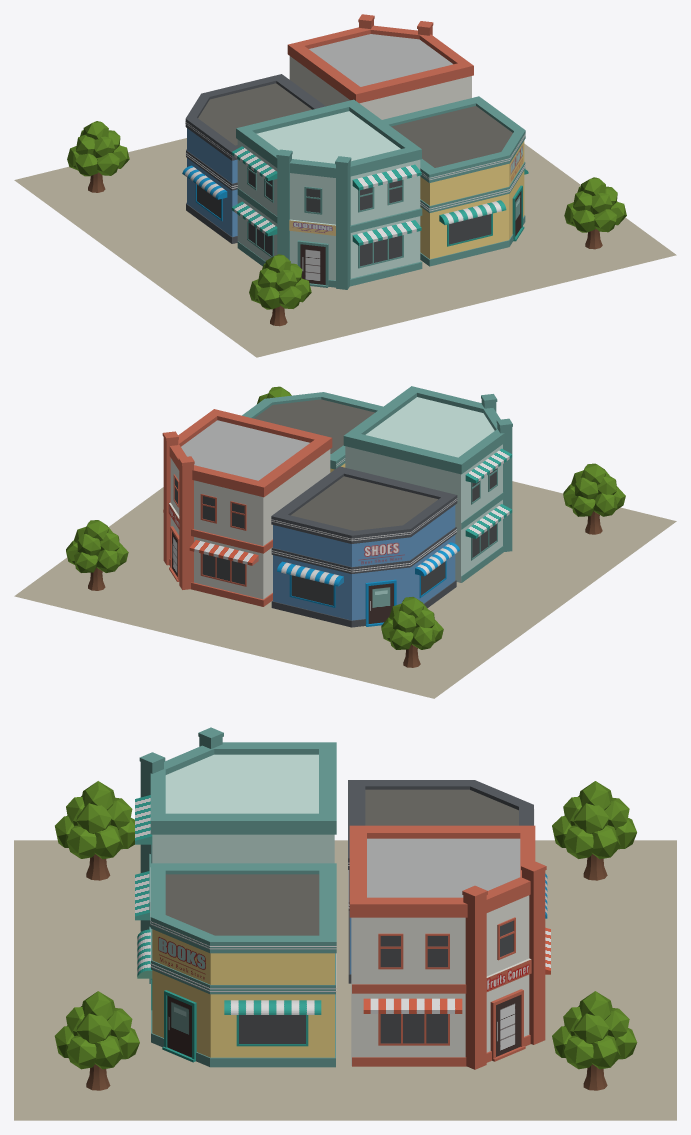
The model's file is shoparea.gltf.
3 renders of one model, top to bottom at view 1: azimuth 30°, elevation 25°; view 2: azimuth 150°, elevation 25°; view 3: azimuth 270°, elevation 25°, orthographic. The views are drawn at different scales.
Parts seen in each view (by area): view 1: Natures_Grass Tile_Plane.010, Building_Clothing_Cube.004, Building_Books Shop_Cube.018, Building_Fruits Shop_Cube.2119, Building_Shoes Shop_Cube.015, Natures_Big Tree_Mesh.008 (×3); view 2: Natures_Grass Tile_Plane.010, Building_Shoes Shop_Cube.015, Building_Fruits Shop_Cube.2119, Building_Clothing_Cube.004, Natures_Big Tree_Mesh.008 (×3), Building_Books Shop_Cube.018; view 3: Natures_Grass Tile_Plane.010, Building_Fruits Shop_Cube.2119, Building_Books Shop_Cube.018, Building_Clothing_Cube.004, Natures_Big Tree_Mesh.008 (×4), Building_Shoes Shop_Cube.015.
Part boxes in pixels (x1,y1,x2,y2): Natures_Grass Tile_Plane.010: (14,138,676,357); Building_Clothing_Cube.004: (231,99,422,289); Building_Books Shop_Cube.018: (382,96,528,266); Building_Fruits Shop_Cube.2119: (287,14,473,119); Building_Shoes Shop_Cube.015: (182,74,325,243); Natures_Big Tree_Mesh.008 (×3): (67,121,626,326); Natures_Grass Tile_Plane.010: (14,481,676,698); Building_Shoes Shop_Cube.015: (271,466,459,627); Building_Fruits Shop_Cube.2119: (162,409,332,606); Building_Clothing_Cube.004: (343,386,512,582); Natures_Big Tree_Mesh.008 (×3): (66,463,625,667); Building_Books Shop_Cube.018: (242,392,382,472); Natures_Grass Tile_Plane.010: (14,840,676,1120); Building_Fruits Shop_Cube.2119: (349,825,550,1069); Building_Books Shop_Cube.018: (137,863,336,1067); Building_Clothing_Cube.004: (135,727,336,983); Natures_Big Tree_Mesh.008 (×4): (54,781,637,1090); Building_Shoes Shop_Cube.015: (348,780,547,983).
Size of the model in its own units: 40 by 11.61 by 40.
Materials: 6 (6 with a texture image).
